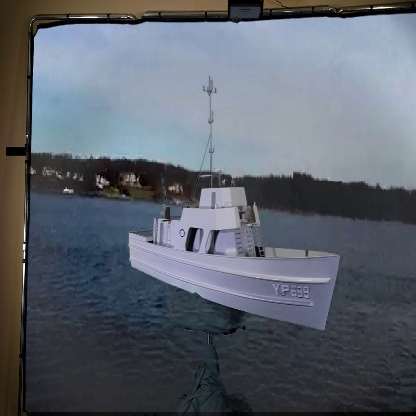YP689: (127, 75, 340, 332)
